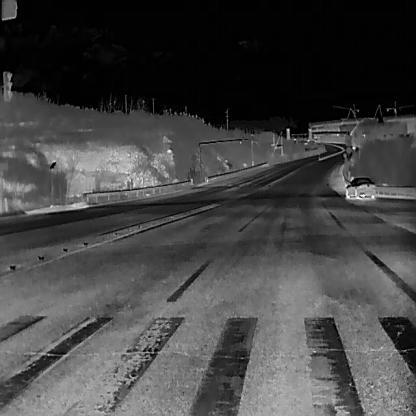car: (345, 176, 376, 199), (351, 142, 356, 150), (315, 137, 320, 142)
